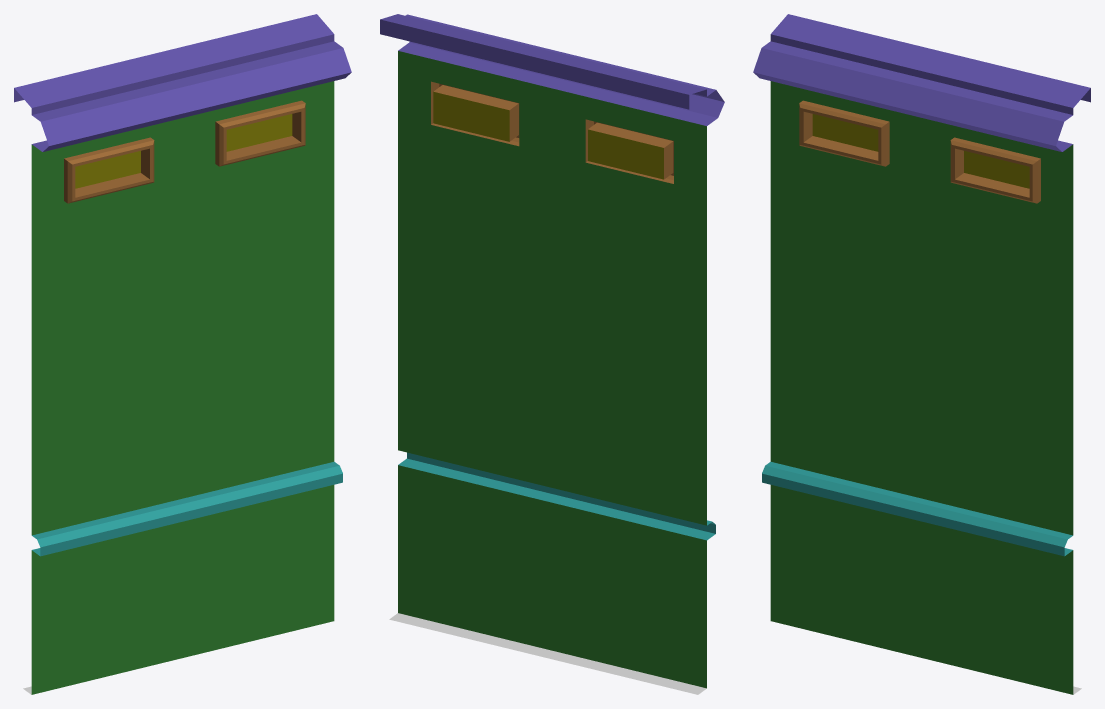
Rendered from R_2x4_Windows.fbx.
3 views of the same model, side by side, from view 1: azimuth 30°, elevation 25°; view 2: azimuth 150°, elevation 25°; view 3: azimuth 330°, elevation 25° (orthographic). The views are drawn at different scales.
Parts seen in each view (by area): view 1: R_2x4_Windows; view 2: R_2x4_Windows; view 3: R_2x4_Windows.
Boxes of the visible parts, x1,y1,x2,y2 form: R_2x4_Windows: (14, 14, 351, 694); R_2x4_Windows: (380, 14, 724, 694); R_2x4_Windows: (753, 14, 1090, 694).
Bounding box in the file's own units: 143 × 269 × 28.7.
